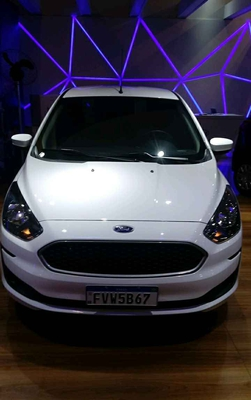Frontal Veiculo: (1, 94, 244, 318)
